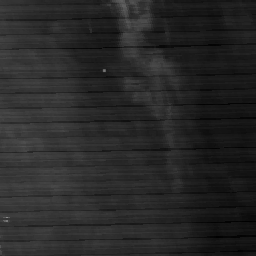Target: (101, 68, 107, 74)
